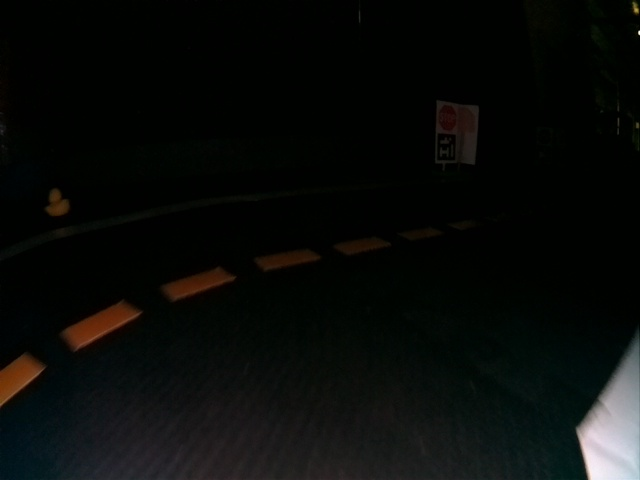Duckie: (45, 191, 71, 215)
QR code: (436, 135, 457, 161)
Stop sign: (439, 103, 457, 131)
